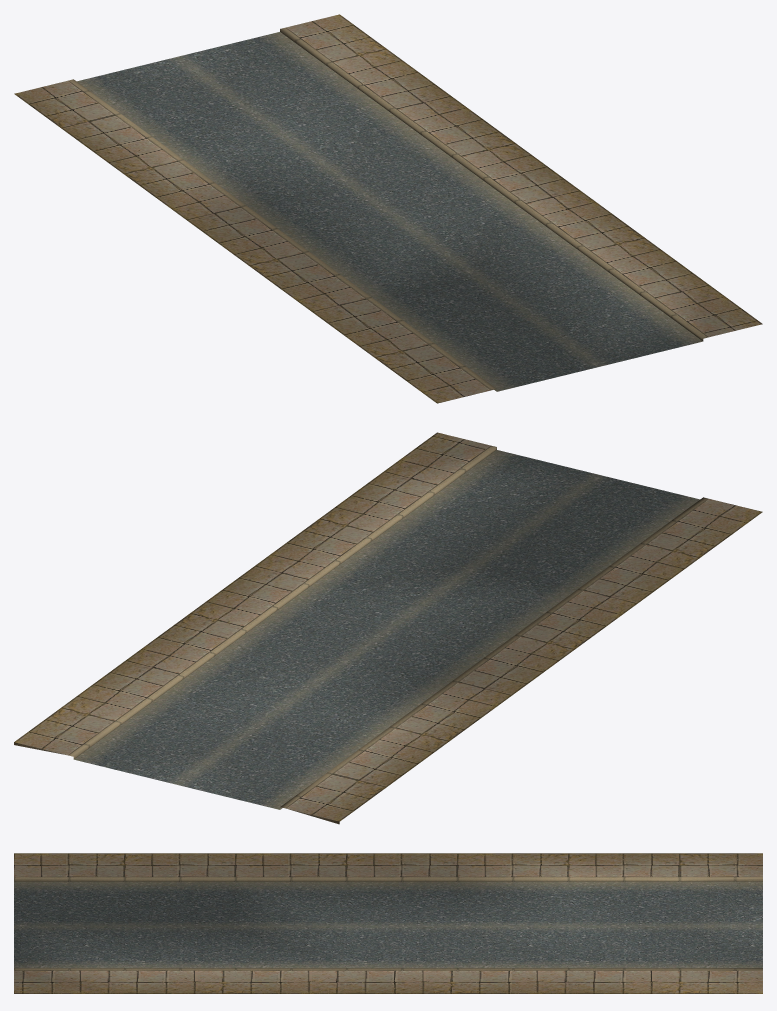
The model's file is M11Z1_Floor_Tunnel03.glb.
3 views of the same model, one above another, from view 1: azimuth 30°, elevation 25°; view 2: azimuth 150°, elevation 25°; view 3: azimuth 270°, elevation 25° (orthographic). The views are drawn at different scales.
Parts seen in each view (by area): view 1: M11Z1_FLOOR_TUNNEL03, M11Z1_FLOOR_TUNNEL03002, M11Z1_FLOOR_TUNNEL03004, M11Z1_FLOOR_TUNNEL03001, M11Z1_FLOOR_TUNNEL03003, M11Z1_FLOOR_TUNNEL03005, M11Z1_FLOOR_TUNNEL03006, M11Z1_FLOOR_TUNNEL03007; view 2: M11Z1_FLOOR_TUNNEL03004, M11Z1_FLOOR_TUNNEL03, M11Z1_FLOOR_TUNNEL03002, M11Z1_FLOOR_TUNNEL03005, M11Z1_FLOOR_TUNNEL03003, M11Z1_FLOOR_TUNNEL03001, M11Z1_FLOOR_TUNNEL03006, M11Z1_FLOOR_TUNNEL03007; view 3: M11Z1_FLOOR_TUNNEL03004, M11Z1_FLOOR_TUNNEL03002, M11Z1_FLOOR_TUNNEL03, M11Z1_FLOOR_TUNNEL03005, M11Z1_FLOOR_TUNNEL03001, M11Z1_FLOOR_TUNNEL03003, M11Z1_FLOOR_TUNNEL03006, M11Z1_FLOOR_TUNNEL03007.
Boxes of the visible parts, left/top/right/bottom form: M11Z1_FLOOR_TUNNEL03: left=312, top=250, right=639, bottom=403; M11Z1_FLOOR_TUNNEL03002: left=187, top=158, right=514, bottom=311; M11Z1_FLOOR_TUNNEL03004: left=61, top=66, right=389, bottom=219; M11Z1_FLOOR_TUNNEL03001: left=537, top=232, right=762, bottom=366; M11Z1_FLOOR_TUNNEL03003: left=412, top=140, right=636, bottom=274; M11Z1_FLOOR_TUNNEL03005: left=287, top=49, right=511, bottom=182; M11Z1_FLOOR_TUNNEL03006: left=14, top=32, right=279, bottom=127; M11Z1_FLOOR_TUNNEL03007: left=224, top=14, right=386, bottom=91; M11Z1_FLOOR_TUNNEL03004: left=121, top=658, right=511, bottom=787; M11Z1_FLOOR_TUNNEL03: left=372, top=475, right=762, bottom=603; M11Z1_FLOOR_TUNNEL03002: left=246, top=567, right=636, bottom=695; M11Z1_FLOOR_TUNNEL03005: left=61, top=616, right=348, bottom=724; M11Z1_FLOOR_TUNNEL03003: left=187, top=524, right=474, bottom=633; M11Z1_FLOOR_TUNNEL03001: left=312, top=432, right=598, bottom=541; M11Z1_FLOOR_TUNNEL03006: left=75, top=750, right=386, bottom=824; M11Z1_FLOOR_TUNNEL03007: left=14, top=708, right=222, bottom=759; M11Z1_FLOOR_TUNNEL03004: left=458, top=853, right=679, bottom=968; M11Z1_FLOOR_TUNNEL03002: left=236, top=853, right=457, bottom=968; M11Z1_FLOOR_TUNNEL03: left=14, top=853, right=235, bottom=968; M11Z1_FLOOR_TUNNEL03005: left=458, top=926, right=679, bottom=993; M11Z1_FLOOR_TUNNEL03001: left=14, top=926, right=235, bottom=993; M11Z1_FLOOR_TUNNEL03003: left=236, top=926, right=457, bottom=993; M11Z1_FLOOR_TUNNEL03006: left=679, top=853, right=762, bottom=968; M11Z1_FLOOR_TUNNEL03007: left=679, top=926, right=762, bottom=993.
Bounding box in the file's own units: 12 × 0.1 × 27.
3 materials, 3 textured.
